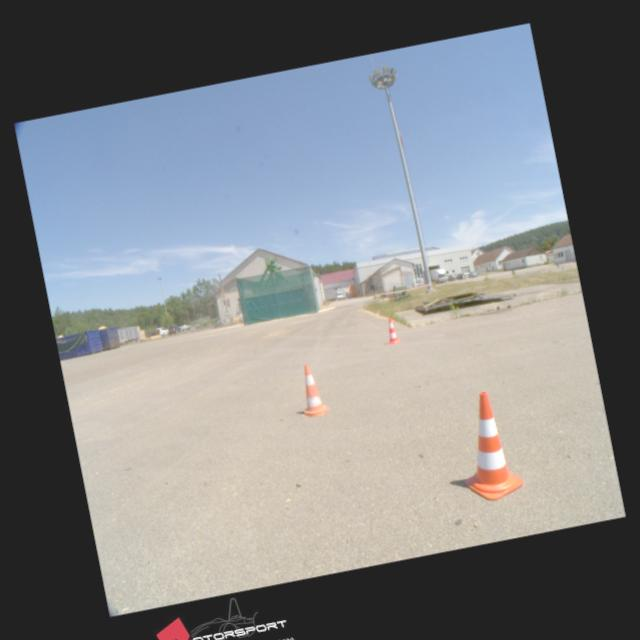large_orange_cone: (448, 388, 524, 503), (292, 361, 330, 418), (384, 316, 402, 344)
